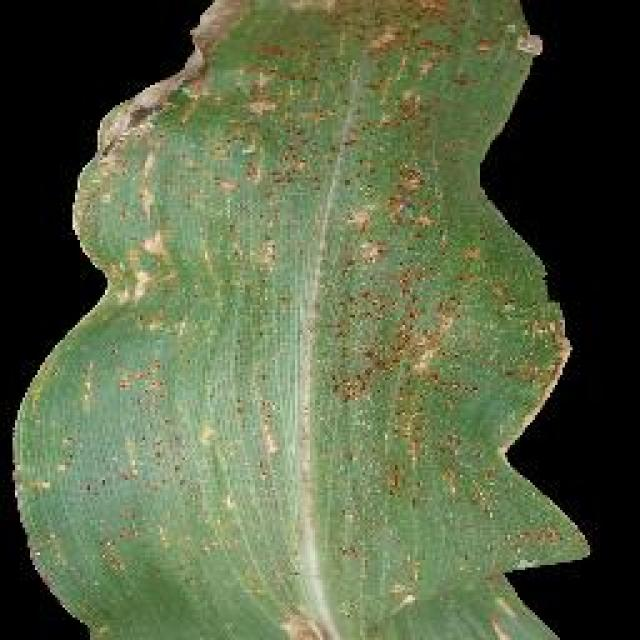Corn Common Rust: (150, 0, 532, 450)
